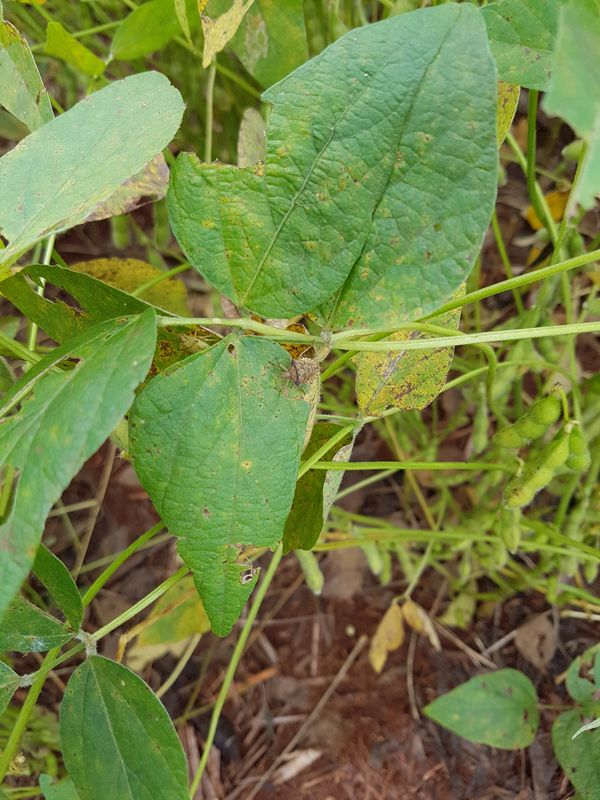Euschistus_heros_ninfa: (264, 338, 330, 406)
